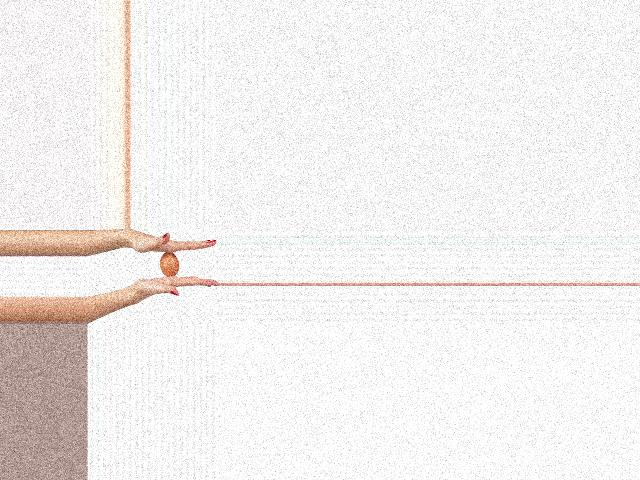egg: (159, 253, 178, 277)
